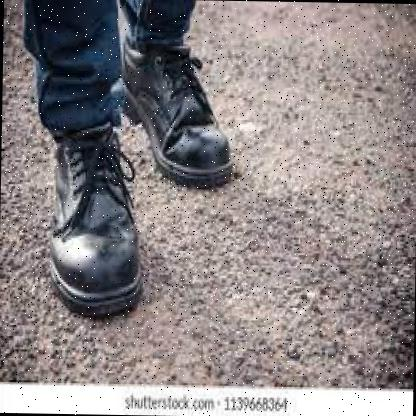bota: (44, 122, 147, 324), (117, 32, 242, 194)
